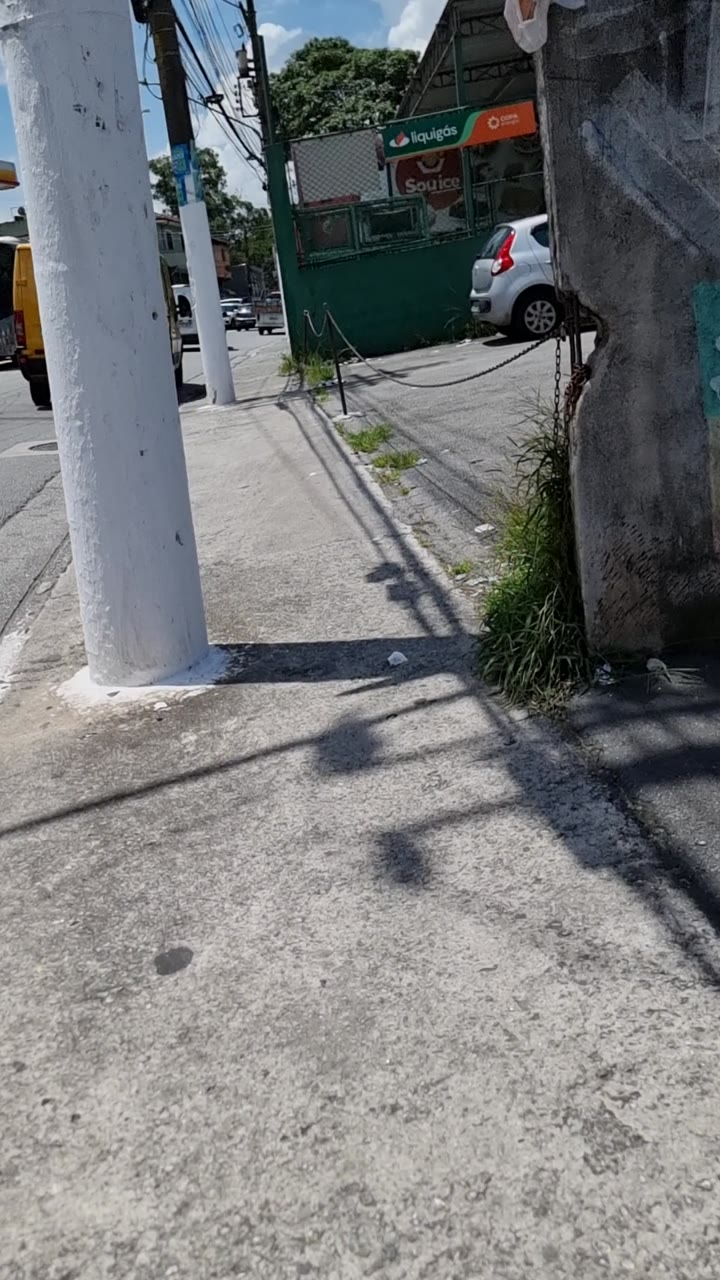obstaculo: (58, 0, 216, 691), (576, 0, 720, 640)
